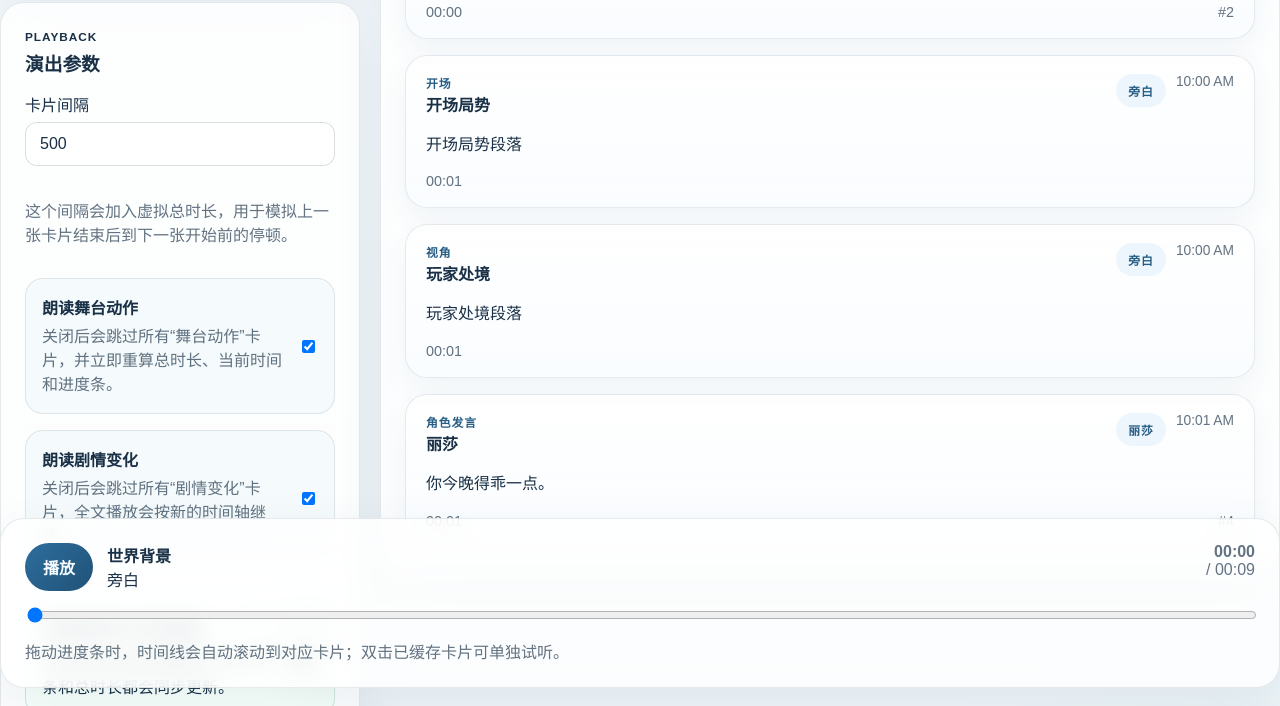
PerformanceModePage › recalculates total duration when stage directions and story effects are toggled
This screenshot has width=1280, height=706.
(page scrolled)
Step 1. Click the checkbox with test id "performance-stage-direction-toggle" → (308, 346), box [302,340,315,353]
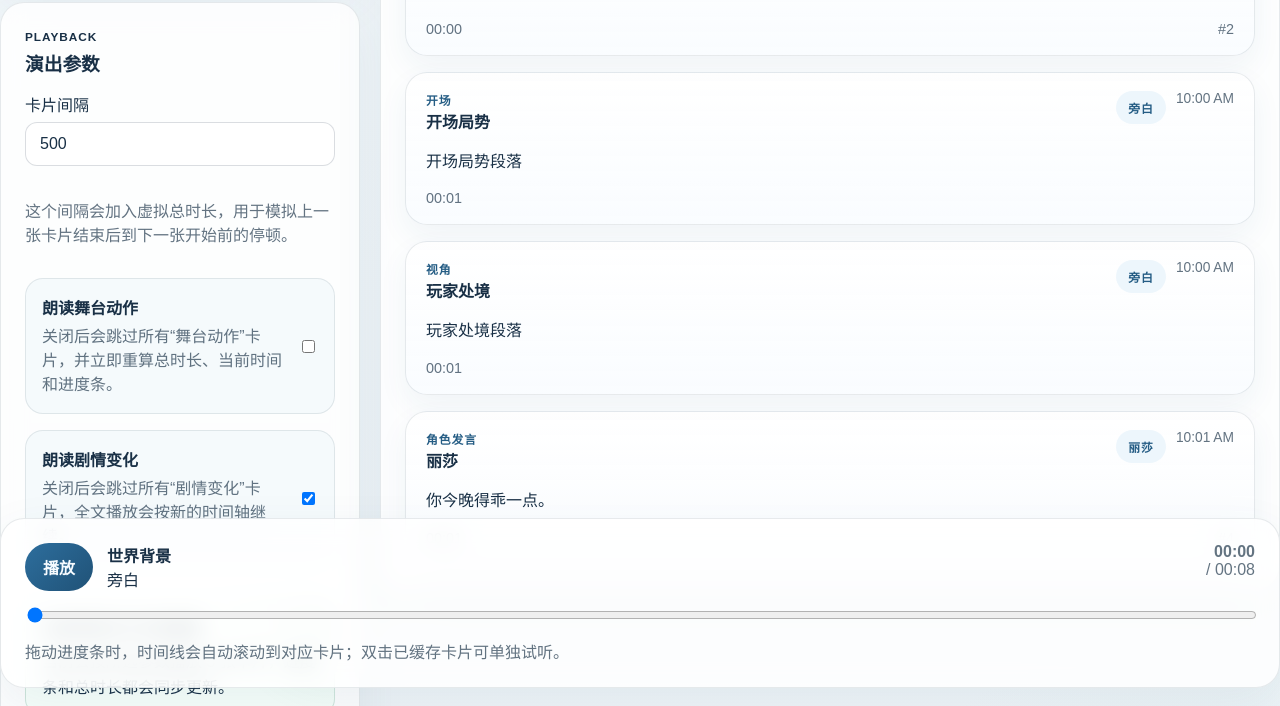
Step 2. Click the checkbox with test id "performance-story-effect-toggle" → (308, 498), box [302,492,315,505]
(page scrolled)
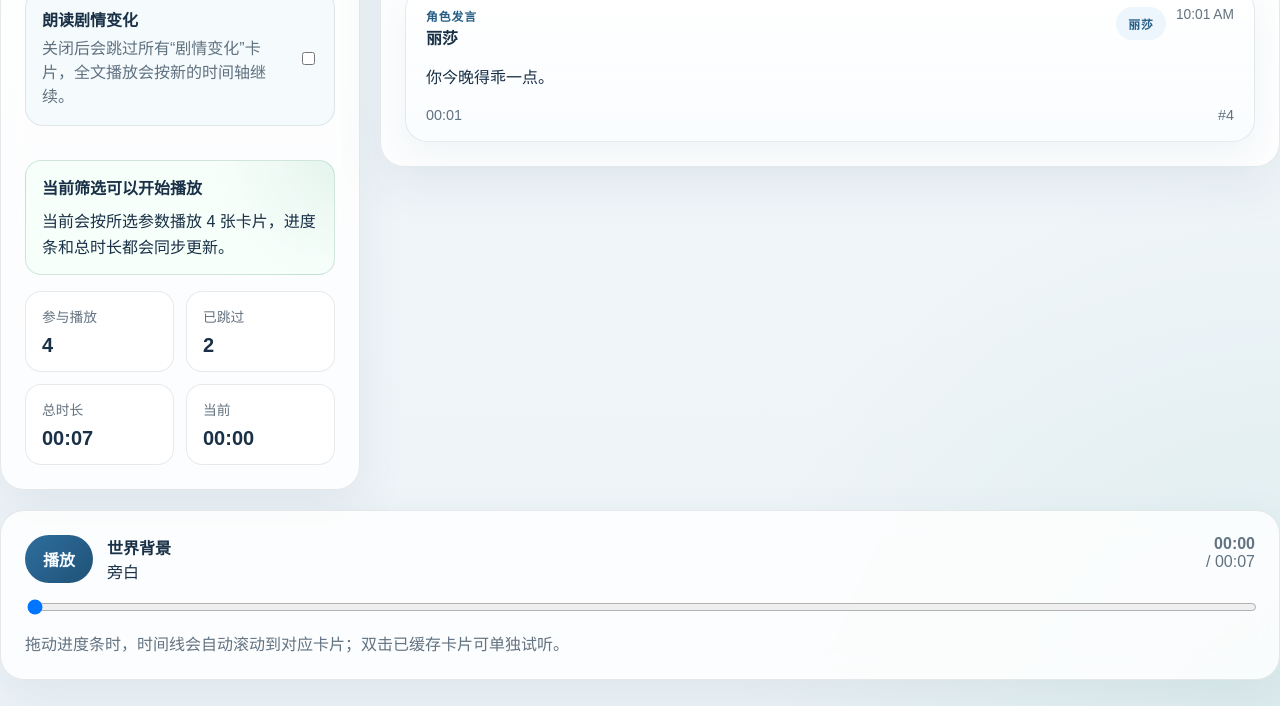
Expected: the text with test id "performance-total-duration" reads "00:07", [42,427,93,449]
